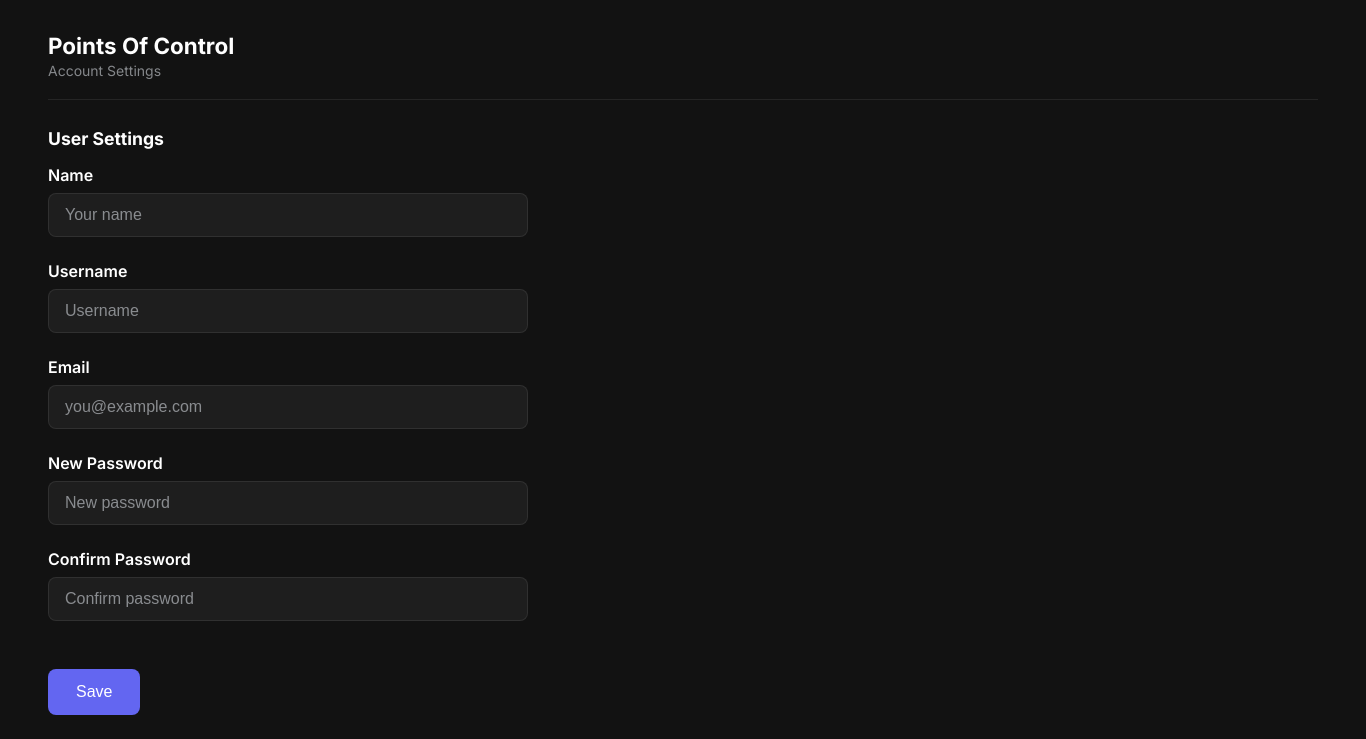
Test: UserSettings component › shows success status on successful save
Type "Chase" into the field labelled "Name" at {"x": 288, "y": 215}, box [48,193,528,237]
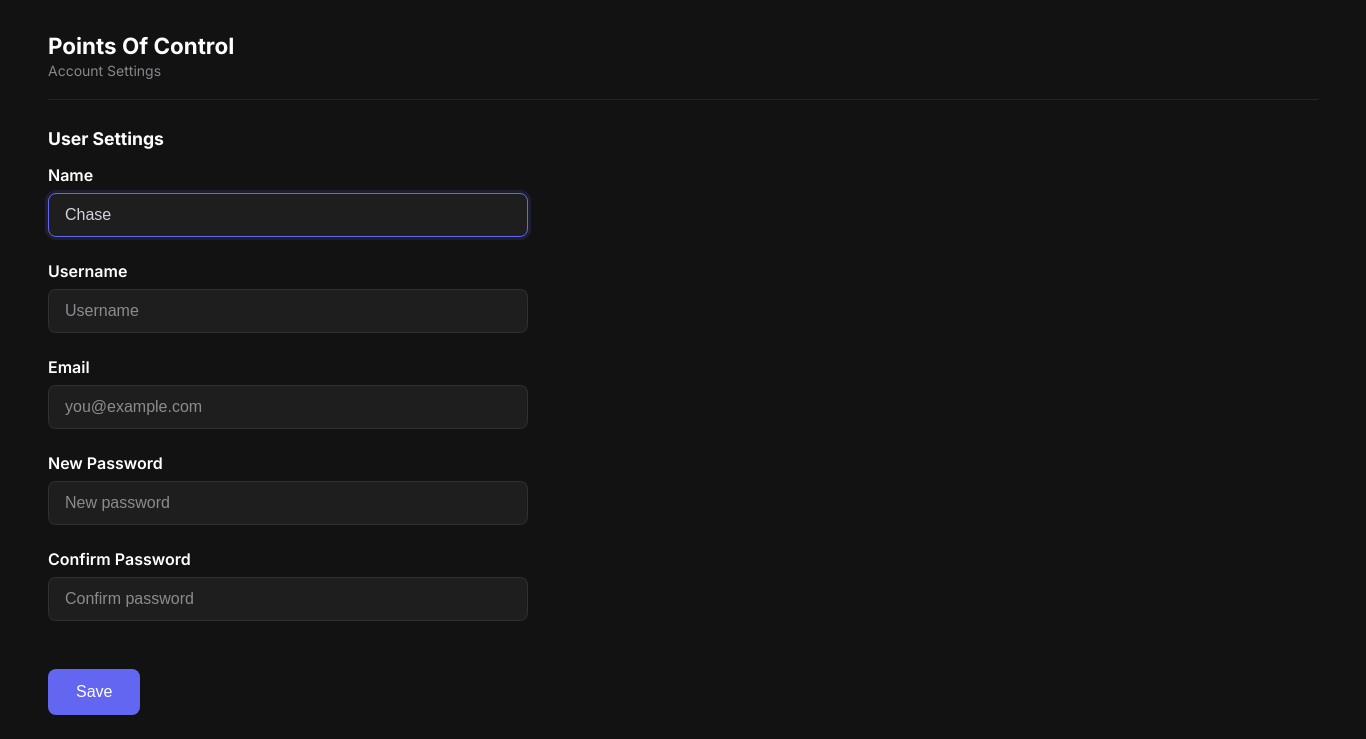
Click the button "Save" at {"x": 94, "y": 692}, box [48,669,140,715]
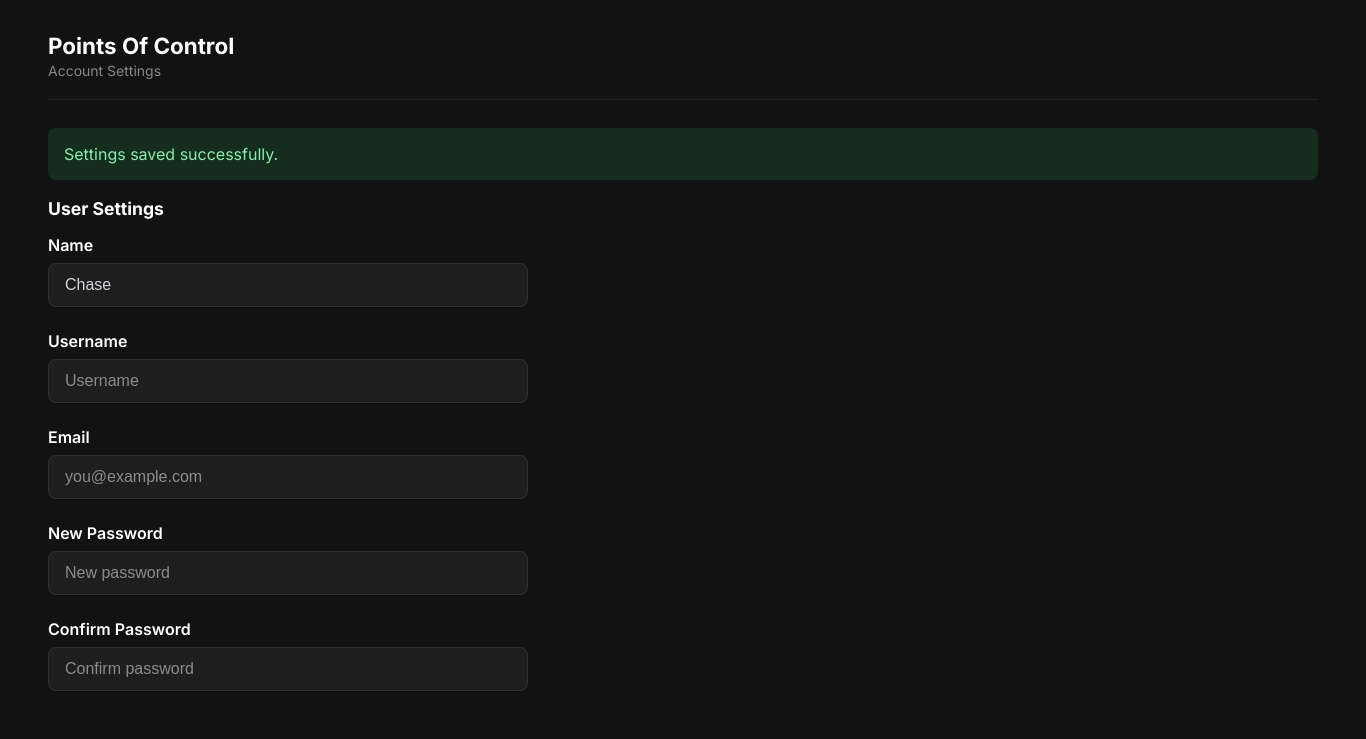
Now the text "Settings saved successfully." is shown, box [48,128,1318,180]
